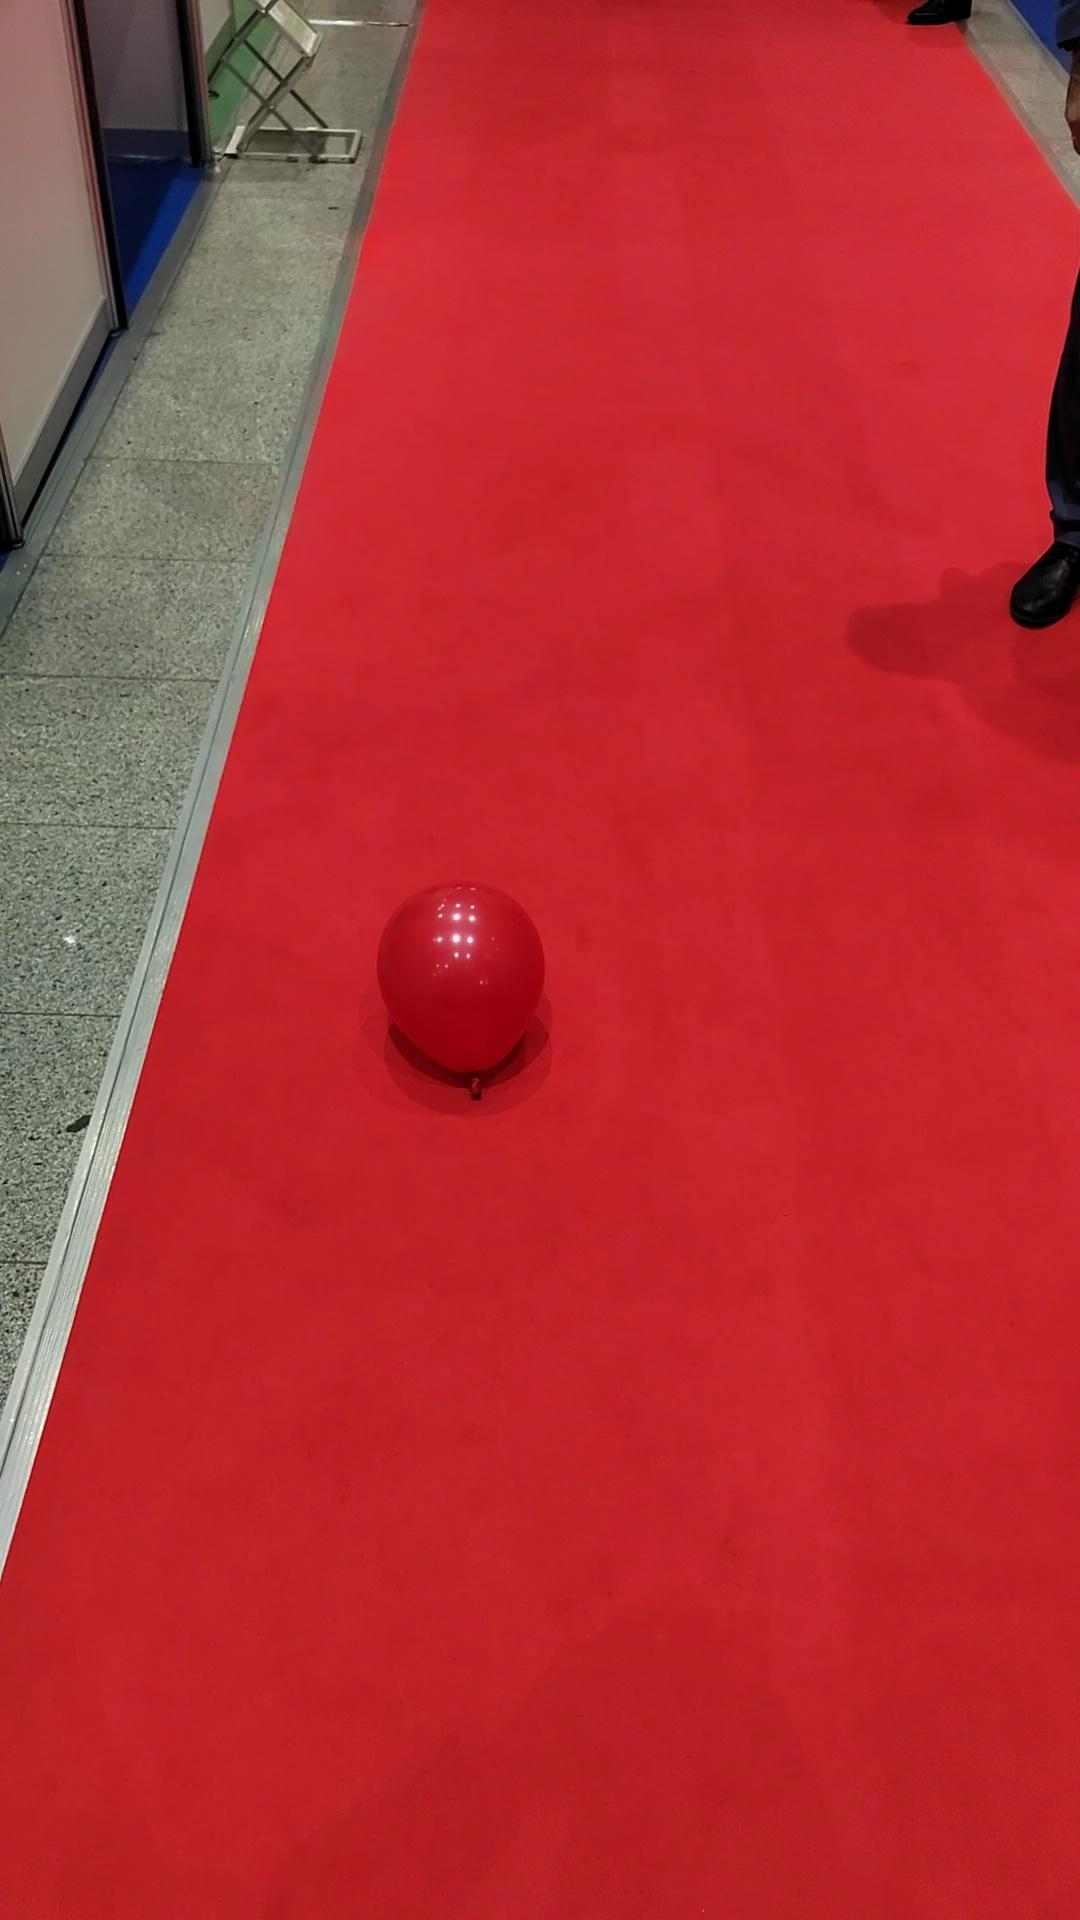red: (376, 884, 545, 1080)
